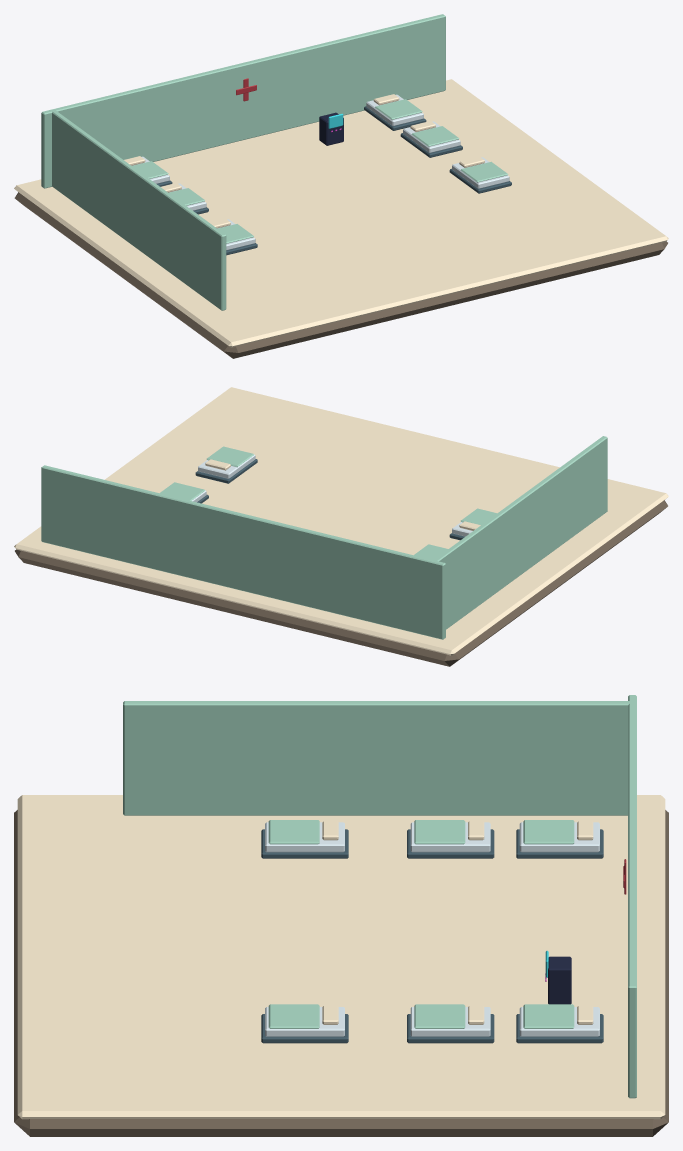
File: world-hospital.glb
The picture shows the model from 3 angles, top to bottom: view 1: azimuth 30°, elevation 25°; view 2: azimuth 150°, elevation 25°; view 3: azimuth 270°, elevation 25°; orthographic projection. The views are drawn at different scales.
Parts seen in each view (by area): view 1: terrain-top, rear-wall, side-wall, terrain-stratum, blanket.003, blanket.004, blanket.005, terminal-base.001; view 2: terrain-top, rear-wall, side-wall, terrain-stratum, blanket.003, blanket.004, mattress.003; view 3: terrain-top, side-wall, terrain-stratum, rear-wall, blanket.001, blanket.003, blanket.004, blanket.005, blanket, blanket.002, terminal-base.001, mattress.001 (+11 smaller).
Part boxes in pixels (x1=…): terrain-top: x1=14, y1=79, x2=668, y2=347; rear-wall: x1=41, y1=14, x2=445, y2=188; side-wall: x1=52, y1=110, x2=226, y2=310; terrain-stratum: x1=14, y1=192, x2=667, y2=358; blanket.003: x1=461, y1=161, x2=508, y2=182; blanket.004: x1=411, y1=126, x2=459, y2=146; blanket.005: x1=375, y1=99, x2=422, y2=119; terminal-base.001: x1=319, y1=112, x2=343, y2=145; terrain-top: x1=14, y1=387, x2=668, y2=655; rear-wall: x1=41, y1=465, x2=445, y2=639; side-wall: x1=433, y1=436, x2=607, y2=629; terrain-stratum: x1=15, y1=500, x2=667, y2=666; blanket.003: x1=206, y1=446, x2=253, y2=467; blanket.004: x1=160, y1=482, x2=205, y2=500; mattress.003: x1=198, y1=454, x2=255, y2=478; terrain-top: x1=17, y1=795, x2=665, y2=1119; side-wall: x1=123, y1=701, x2=630, y2=815; terrain-stratum: x1=14, y1=810, x2=668, y2=1136; rear-wall: x1=628, y1=695, x2=636, y2=1098; blanket.001: x1=414, y1=820, x2=465, y2=844; blanket.003: x1=268, y1=1004, x2=319, y2=1028; blanket.004: x1=414, y1=1004, x2=465, y2=1028; blanket.005: x1=523, y1=1004, x2=574, y2=1028; blanket: x1=268, y1=820, x2=319, y2=844; blanket.002: x1=523, y1=820, x2=574, y2=844; terminal-base.001: x1=548, y1=956, x2=571, y2=1004; mattress.001: x1=410, y1=822, x2=490, y2=852.
Size of the model in its own units: 21 by 4.29 by 18.
